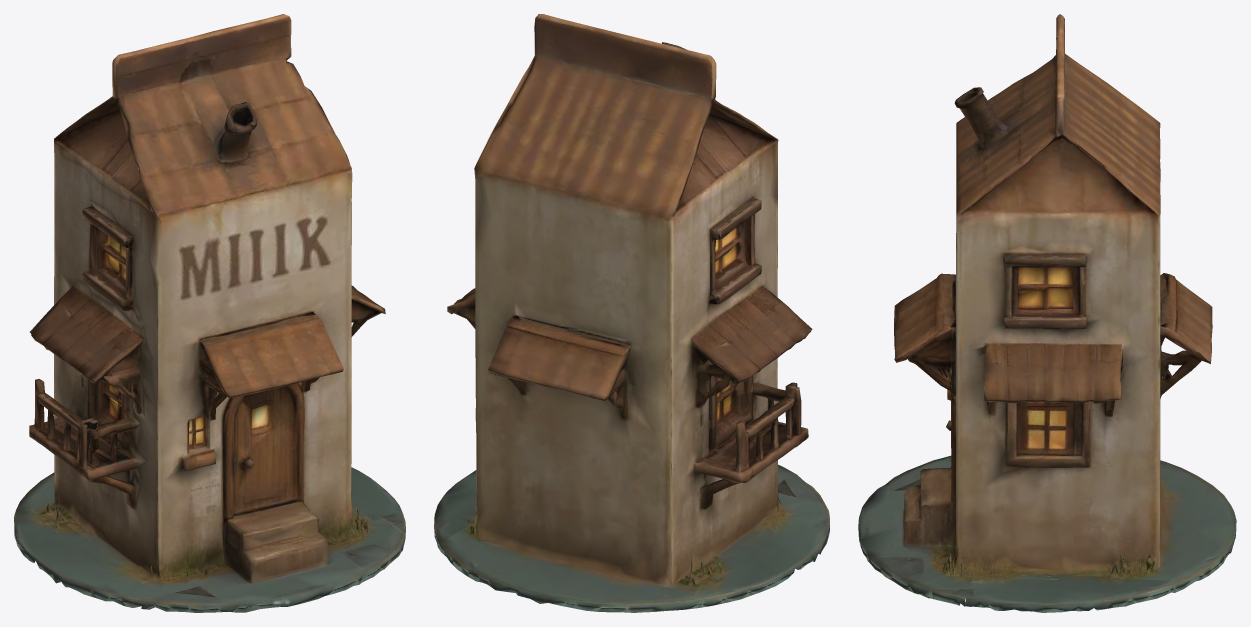
The model's file is 牛奶盒房子.glb.
3 renders of one model, left to right at view 1: azimuth 30°, elevation 25°; view 2: azimuth 150°, elevation 25°; view 3: azimuth 270°, elevation 25°, orthographic. The views are drawn at different scales.
Size of the model in its own units: 1.43 by 2.01 by 1.43.
Materials: 1 (1 with a texture image).
